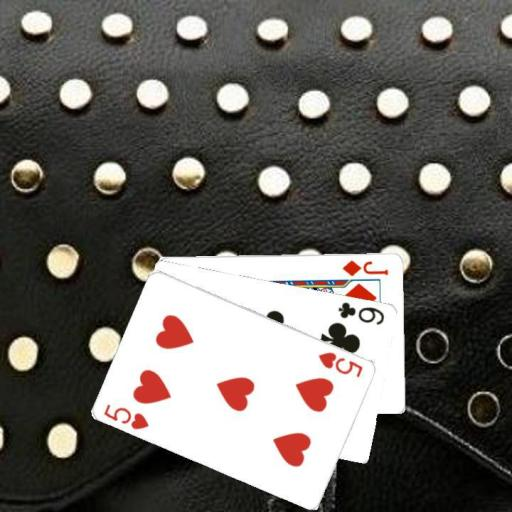5H: (101, 400, 151, 431), (316, 348, 365, 379)
6C: (336, 298, 386, 326)
JD: (339, 257, 390, 277)
